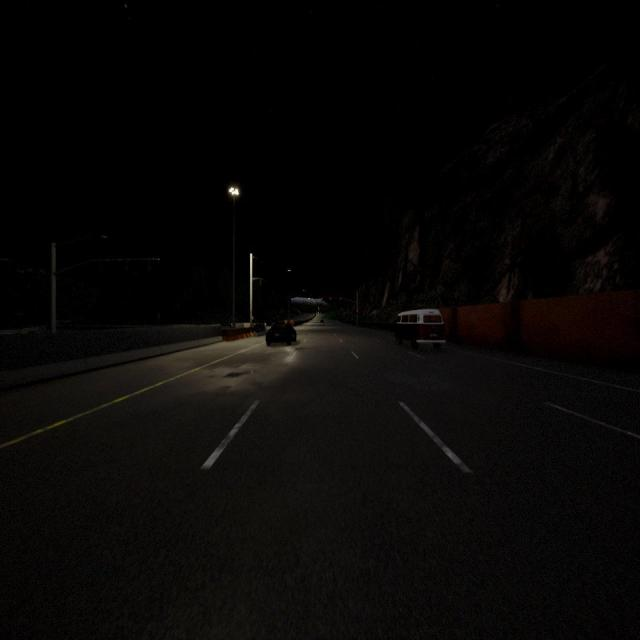Vehicle: (394, 309, 446, 355), (266, 321, 298, 346), (320, 319, 324, 324)
traffic_light: (356, 310, 358, 314), (321, 297, 323, 300), (330, 297, 331, 300), (340, 298, 341, 300)
